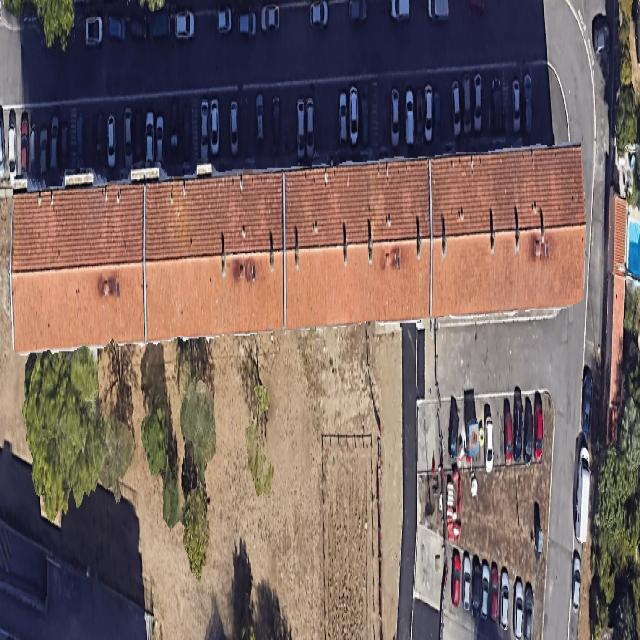immeuble: (2, 140, 590, 352)
maison: (607, 196, 627, 443)
